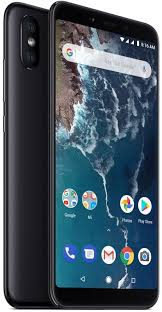mi: (48, 1, 158, 310)
